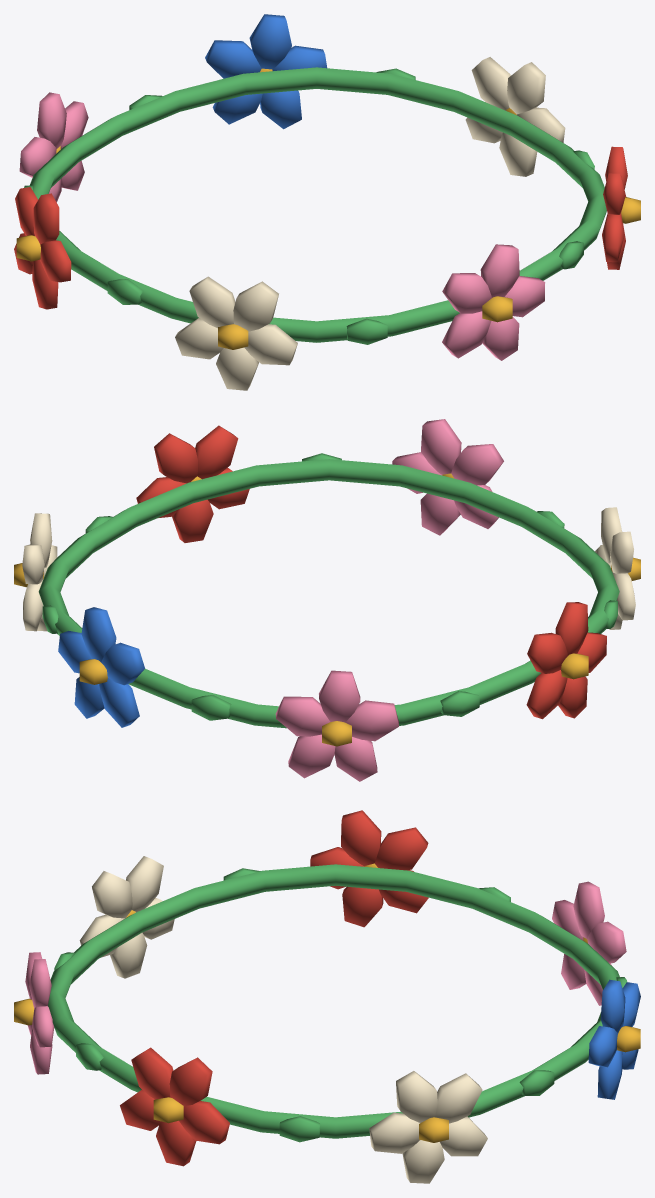
Rendered from neck_flower_lei.glb.
3 views of the same model, one above another, from view 1: azimuth 30°, elevation 25°; view 2: azimuth 150°, elevation 25°; view 3: azimuth 270°, elevation 25° (orthographic).
Visible parts, largest first — view 1: Flowers, Garland; view 2: Flowers, Garland; view 3: Flowers, Garland.
Boxes of the visible parts, x1=… form: Flowers: x1=14, y1=14, x2=640, y2=390; Garland: x1=24, y1=67, x2=606, y2=344; Flowers: x1=14, y1=419, x2=640, y2=781; Garland: x1=38, y1=453, x2=619, y2=728; Flowers: x1=14, y1=810, x2=640, y2=1183; Garland: x1=48, y1=864, x2=627, y2=1142.
Bounding box in the file's own units: 0.9441 × 0.2077 × 0.9357.
